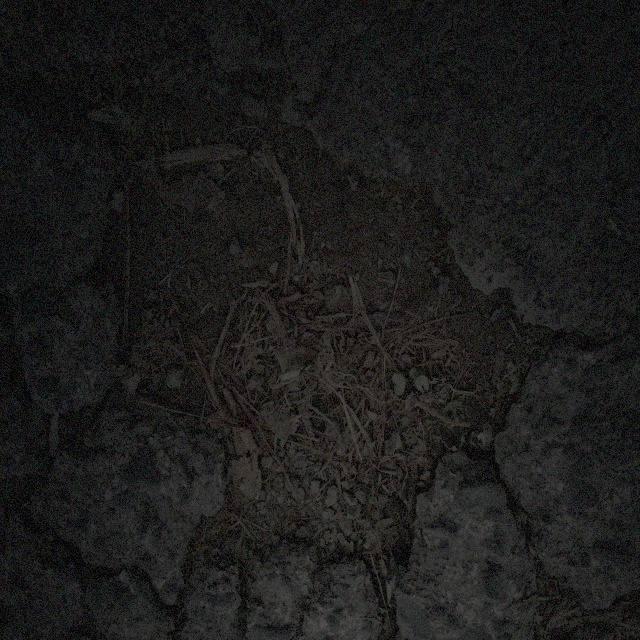pothole: (80, 78, 530, 572)
